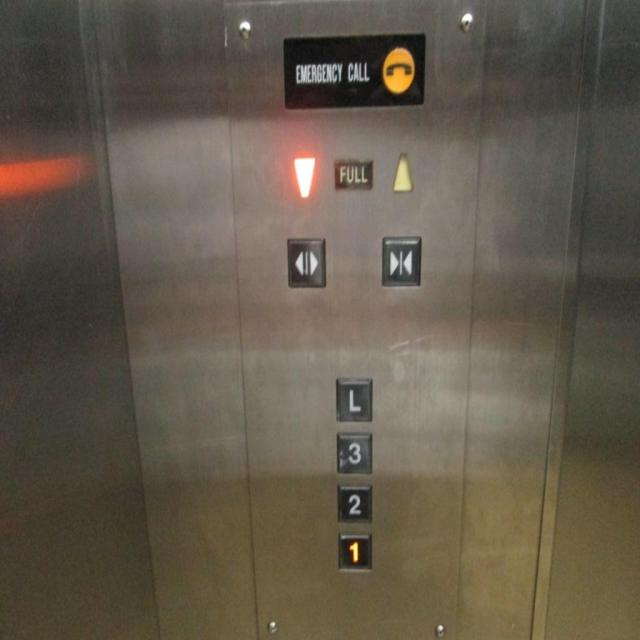1: (336, 529, 373, 571)
2: (336, 482, 374, 526)
3: (334, 429, 374, 475)
L: (334, 374, 374, 424)
call: (381, 44, 418, 96)
close: (379, 235, 422, 287)
open: (284, 234, 328, 290)
